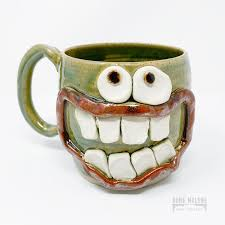mug: (14, 35, 196, 194)
